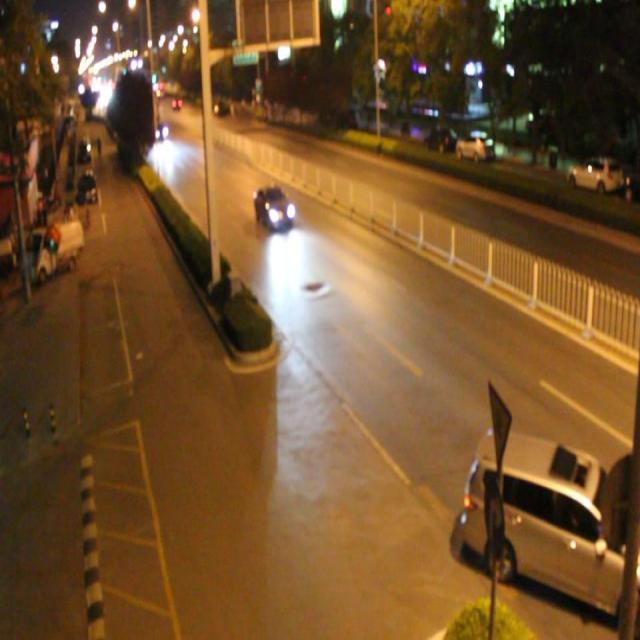car: (464, 427, 640, 622), (254, 186, 294, 230), (150, 120, 168, 138)
